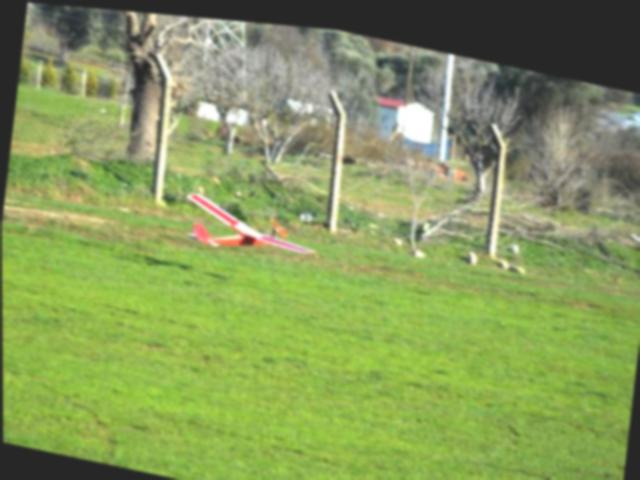iha: (171, 179, 325, 268)
